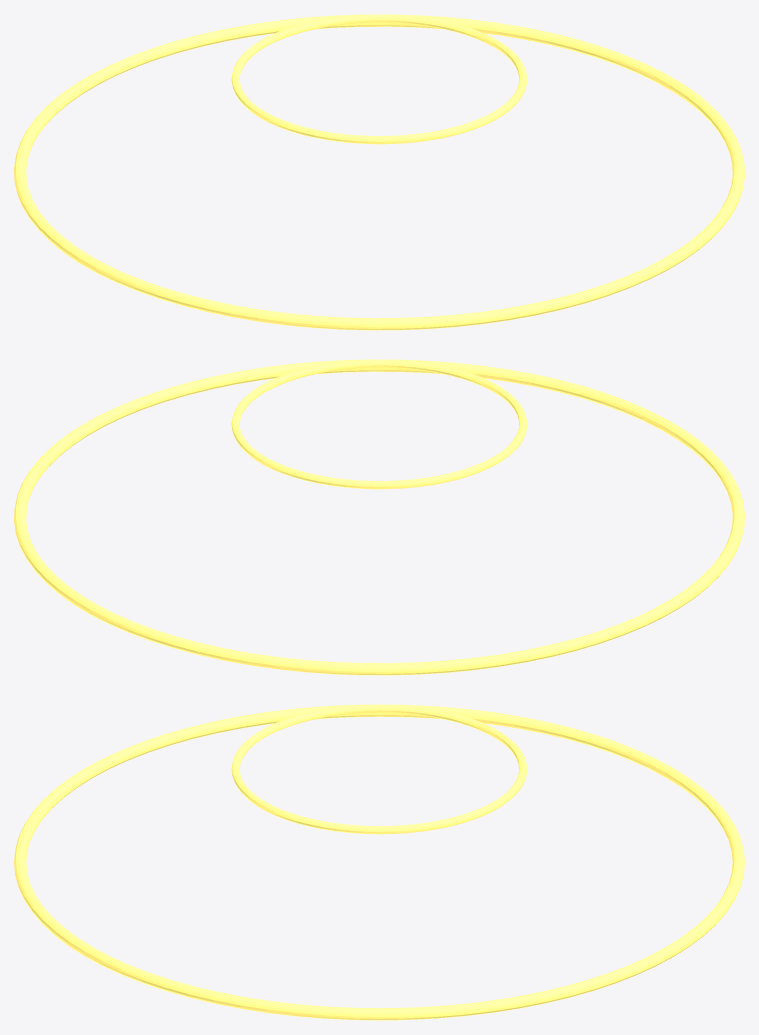
Rendered from gem_scene.glb.
The picture shows the model from 3 angles, top to bottom: view 1: azimuth 30°, elevation 25°; view 2: azimuth 150°, elevation 25°; view 3: azimuth 270°, elevation 25°; orthographic projection.
Visible parts, largest first — view 1: PedestalRing, InnerRing; view 2: PedestalRing, InnerRing; view 3: PedestalRing, InnerRing.
Part boxes in pixels (box(x1,y1,x2,y2)): PedestalRing: box(14, 14, 744, 330); InnerRing: box(231, 14, 527, 144); PedestalRing: box(14, 359, 744, 675); InnerRing: box(231, 359, 527, 489); PedestalRing: box(14, 704, 744, 1020); InnerRing: box(231, 704, 527, 834).
Size of what is drawn, in the model's own units: 7.12 by 1.1 by 7.12.
